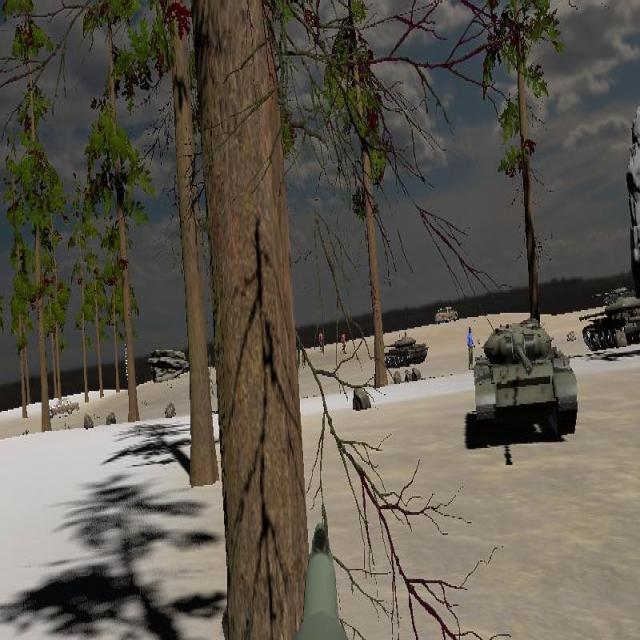Tank: (474, 319, 578, 439), (579, 296, 640, 351), (382, 334, 429, 368), (591, 285, 633, 307)
